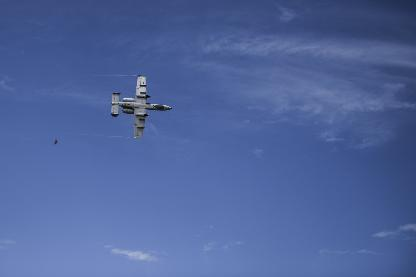A10: (110, 75, 172, 138)
